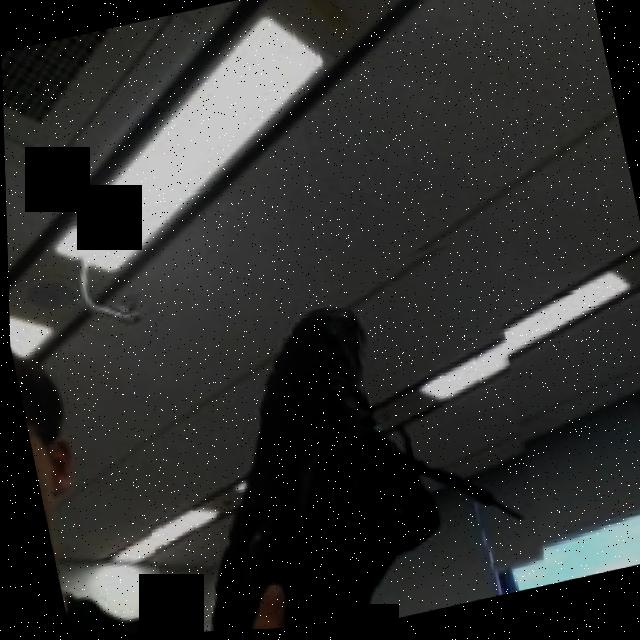shoe: (101, 228, 556, 637)
